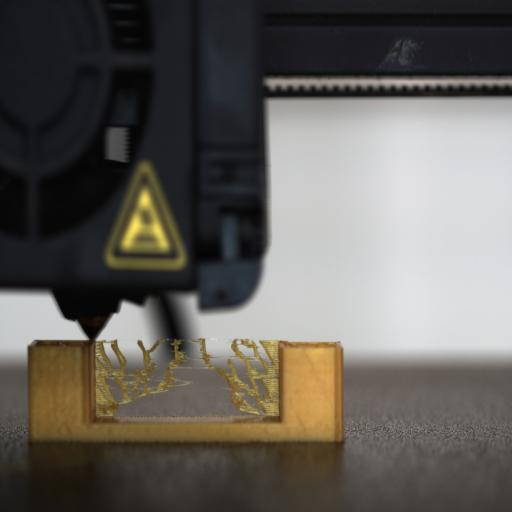stringing: (94, 336, 278, 414)
